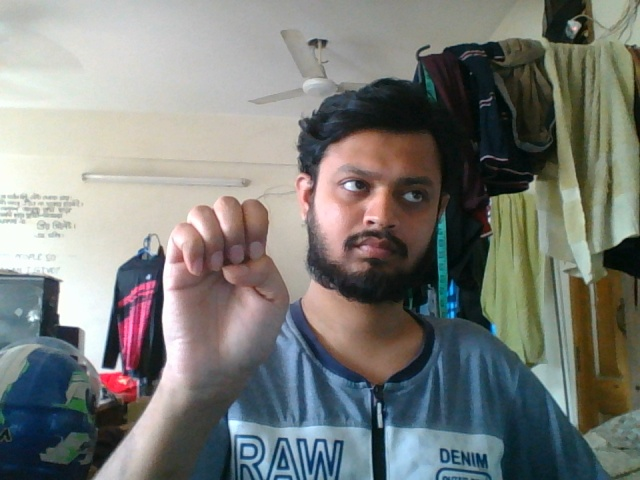sha: (155, 192, 293, 427)
